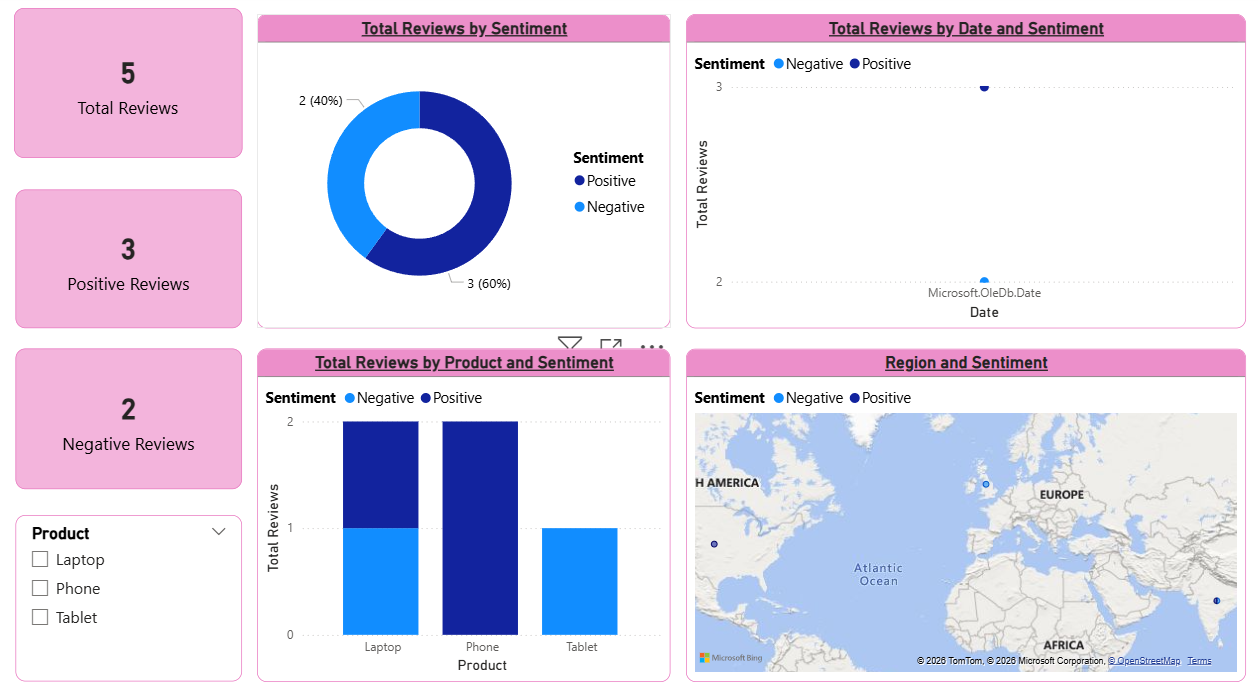

The dashboard page shown, as its layout file describes it:
{"tool":"powerbi","page":{"name":"Page 1","canvas":[1280,720],"ordinal":0},"visuals":[{"type":"card","fields":{"Values":["FactReviews.Total Reviews"]},"box":[15.1,15.1,230.6,151.2],"z":0},{"type":"card","fields":{"Values":["FactReviews.Positive Reviews"]},"box":[17,198.4,228.7,139.8],"z":1000},{"type":"card","fields":{"Values":["FactReviews.Negative Reviews"]},"box":[17,359.1,228.7,141.7],"z":2000},{"type":"donutChart","fields":{"Category":["FactReviews.Sentiment"],"Y":["FactReviews.Total Reviews"]},"box":[260.8,20.8,417.6,317.5],"z":3000},{"type":"columnChart","fields":{"Category":["FactReviews.Product"],"Series":["FactReviews.Sentiment"],"Y":["FactReviews.Total Reviews"]},"box":[260.8,359.1,417.6,336.4],"z":4000},{"type":"lineChart","fields":{"Category":["FactReviews.Date"],"Y":["FactReviews.Total Reviews"],"Series":["FactReviews.Sentiment"]},"box":[693.5,20.8,565,317.5],"z":5000},{"type":"map","fields":{"Category":["FactReviews.Region"],"Series":["FactReviews.Sentiment"]},"box":[693.5,359.1,565,336.4],"z":6000},{"type":"slicer","fields":{"Values":["FactReviews.Product"]},"box":[17,527.2,228.7,168.2],"z":6001}]}

Visuals, with their boxes in screenshot pixels (x1, y1, x2, y2), scaled from the page's 1280x720 canvas onto the 1258x697 screenshot:
card - FactReviews.Total Reviews: select_region(15, 15, 241, 161)
card - FactReviews.Positive Reviews: select_region(17, 192, 241, 327)
card - FactReviews.Negative Reviews: select_region(17, 348, 241, 485)
donutChart - FactReviews.Sentiment x FactReviews.Total Reviews: select_region(256, 20, 667, 327)
columnChart - FactReviews.Product x FactReviews.Sentiment: select_region(256, 348, 667, 673)
lineChart - FactReviews.Date x FactReviews.Total Reviews: select_region(682, 20, 1237, 327)
map - FactReviews.Region x FactReviews.Sentiment: select_region(682, 348, 1237, 673)
slicer - FactReviews.Product: select_region(17, 510, 241, 673)
